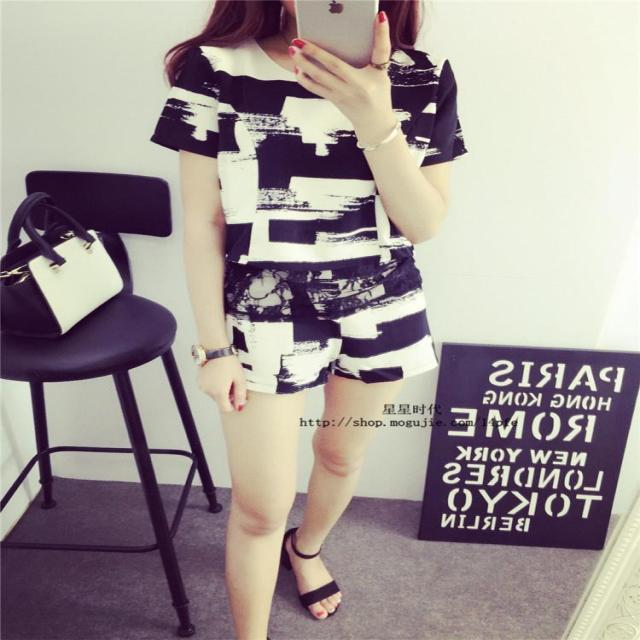short-sleeve-dress: (133, 17, 506, 452)
